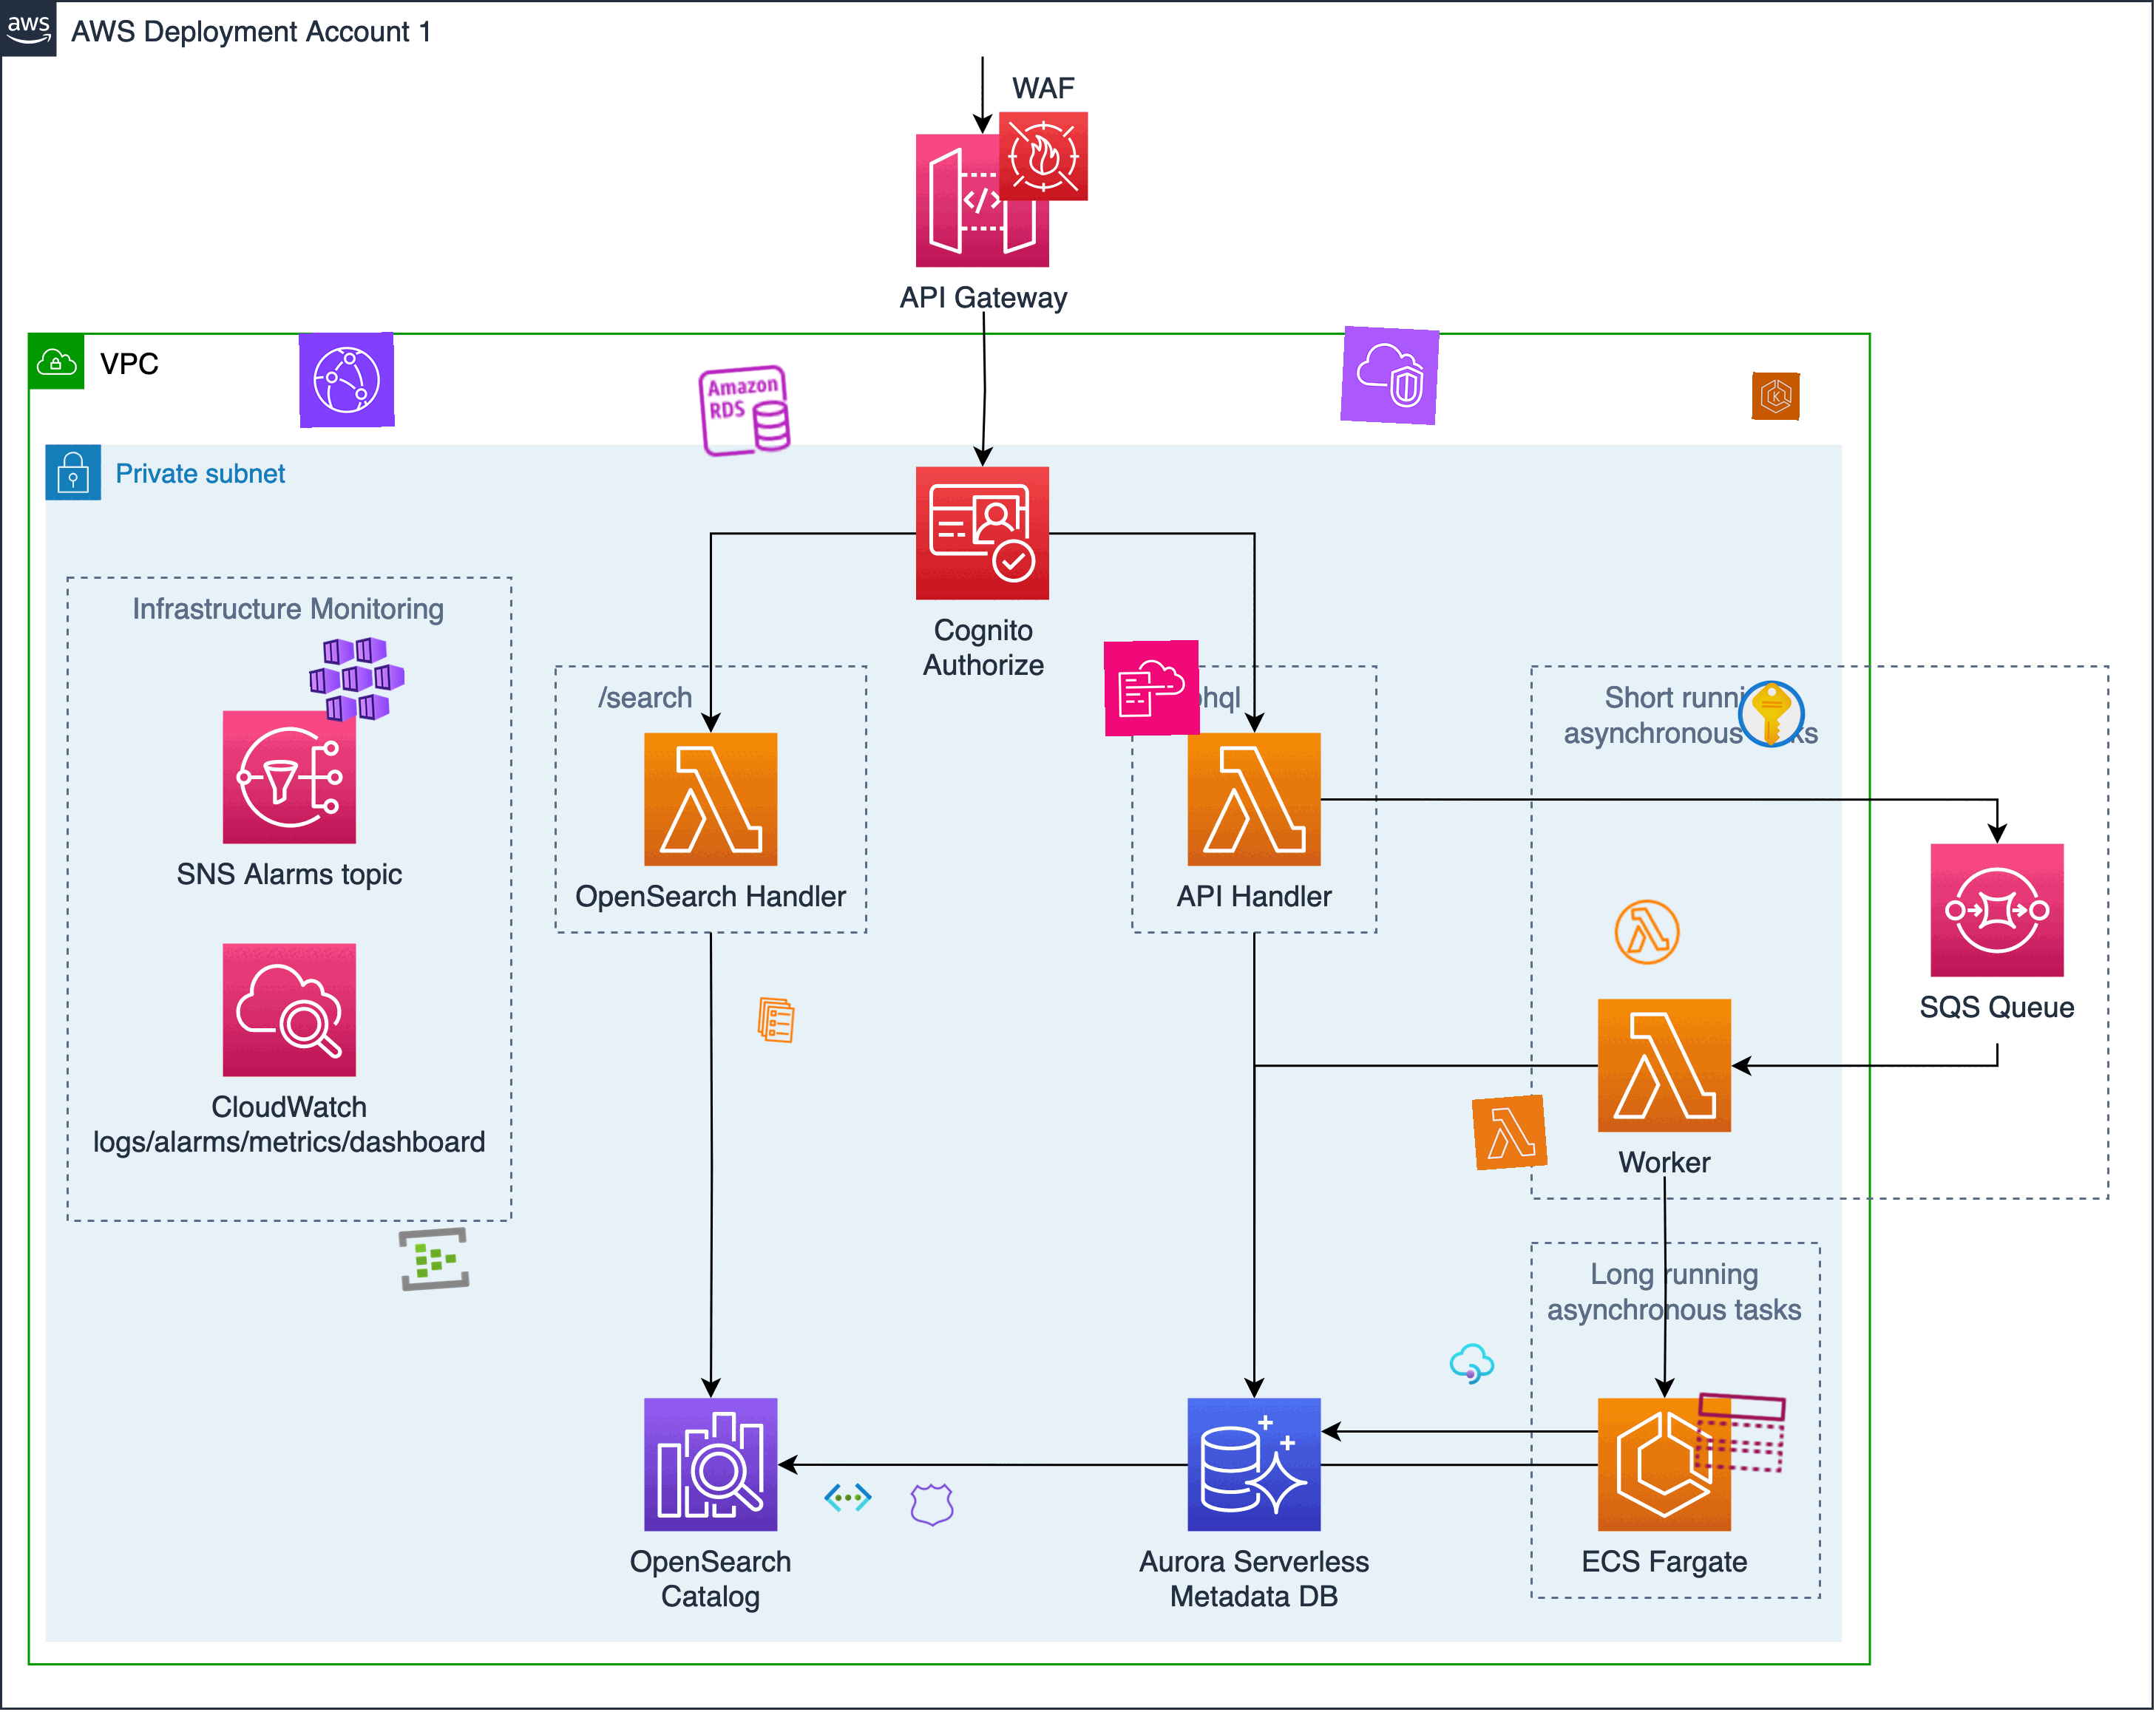aws_amazon_cloudfront: (299, 332, 396, 428)
aws_amazon_elastic_kubernetes_service: (1752, 372, 1801, 421)
aws_amazon_virtual_private_cloud: (1340, 325, 1440, 425)
aws_aurora_amazon_rds_instance: (693, 358, 796, 463)
aws_cloudformation: (1102, 640, 1200, 736)
aws_elastic_container_service_service: (751, 995, 801, 1046)
aws_lambda: (1472, 1095, 1549, 1172)
aws_lambda_lambda_function: (1608, 894, 1685, 971)
aws_route_53_hosted_zone: (907, 1479, 957, 1530)
aws_simple_notification_service_topic: (1690, 1381, 1790, 1483)
azure_api_management_services: (1447, 1340, 1496, 1388)
azure_event_hubs: (396, 1221, 472, 1298)
azure_key_vaults: (1734, 677, 1808, 750)
azure_kubernetes_services: (306, 628, 408, 729)
azure_virtual_networks: (824, 1472, 873, 1521)
